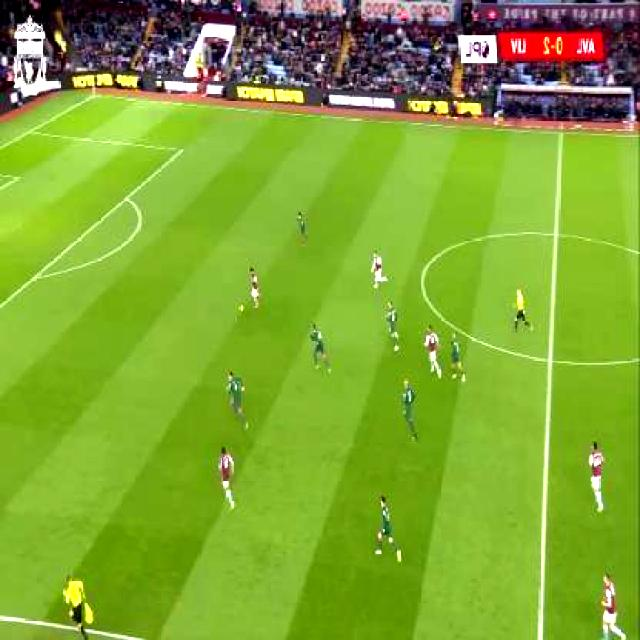bigarea_top_inner: (175, 143, 188, 157)
bigarea_top_outter: (26, 128, 34, 137)
bottom_arc_area_intersection: (29, 268, 43, 288)
corner: (89, 92, 100, 100)
halfcircle_bottom: (540, 348, 560, 374)
halfcircle_top: (551, 224, 563, 244)
midline_top_intersection: (554, 126, 566, 143)
smallarea_top_inner: (12, 172, 20, 183)
top_arc_area_intersection: (120, 192, 132, 206)
